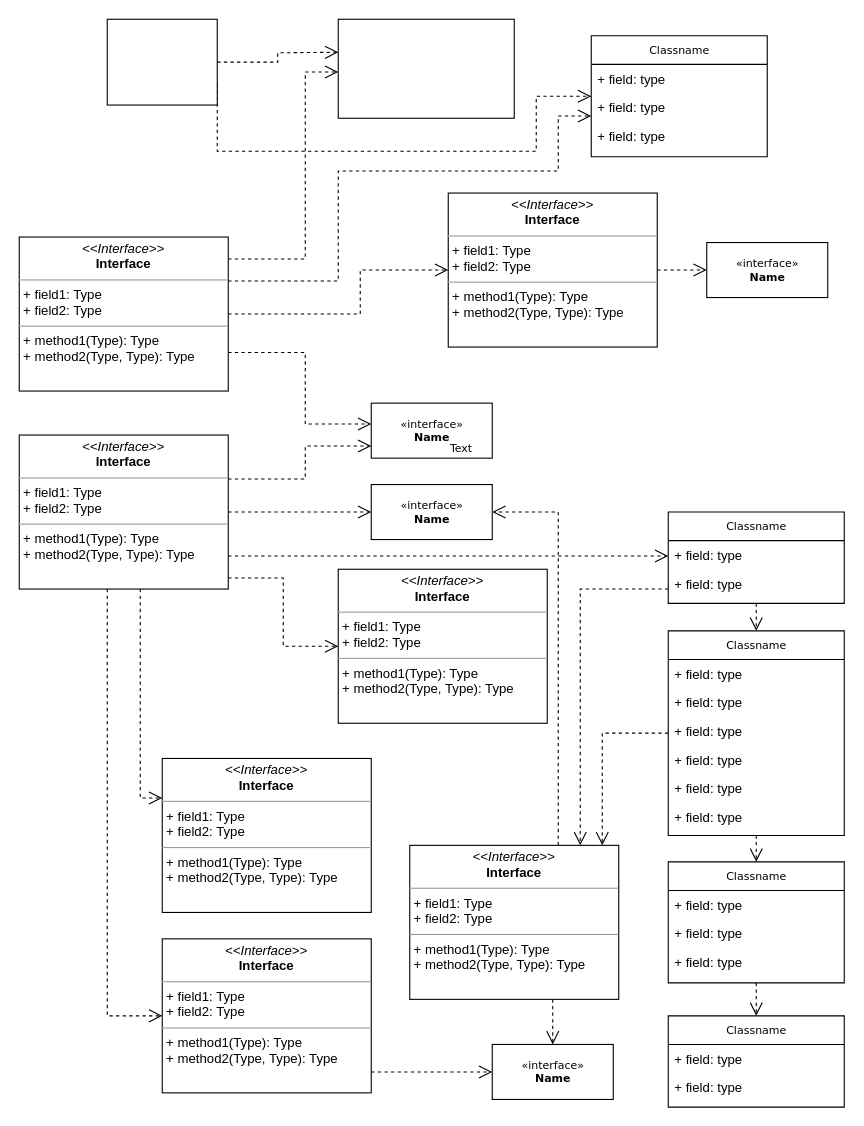
Image size: 864x1126. Some labels were removed from this diagram. Here are the shapes that lost their labels. From the top down, the centre of each, then its label:
At [161,61]: "顾客".
At [425,68]: "Class + field: Type + method(): Type".
